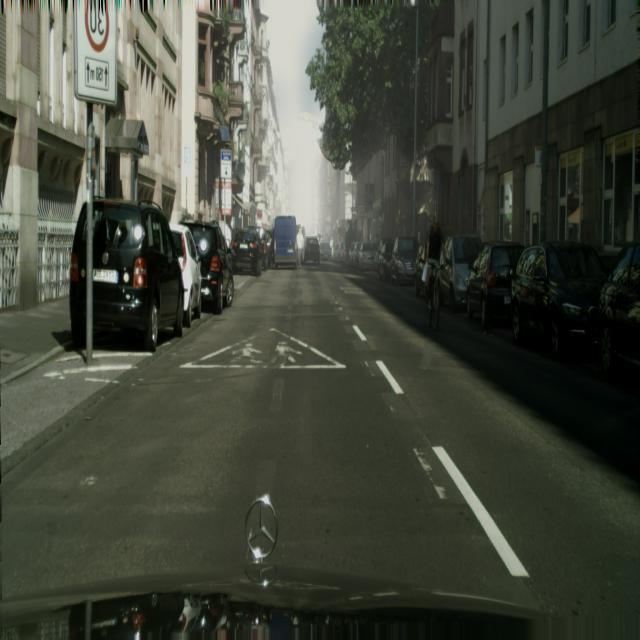car: (426, 204, 444, 330)
motorcycle: (272, 216, 299, 269)
person: (296, 224, 305, 267)
truck: (69, 198, 185, 352), (511, 241, 608, 360), (596, 242, 640, 378), (466, 242, 525, 329), (183, 220, 235, 313), (439, 233, 483, 311), (170, 224, 202, 327), (390, 236, 420, 286), (232, 228, 263, 276), (377, 238, 395, 282), (358, 241, 379, 276), (304, 235, 321, 266), (319, 238, 332, 261)
